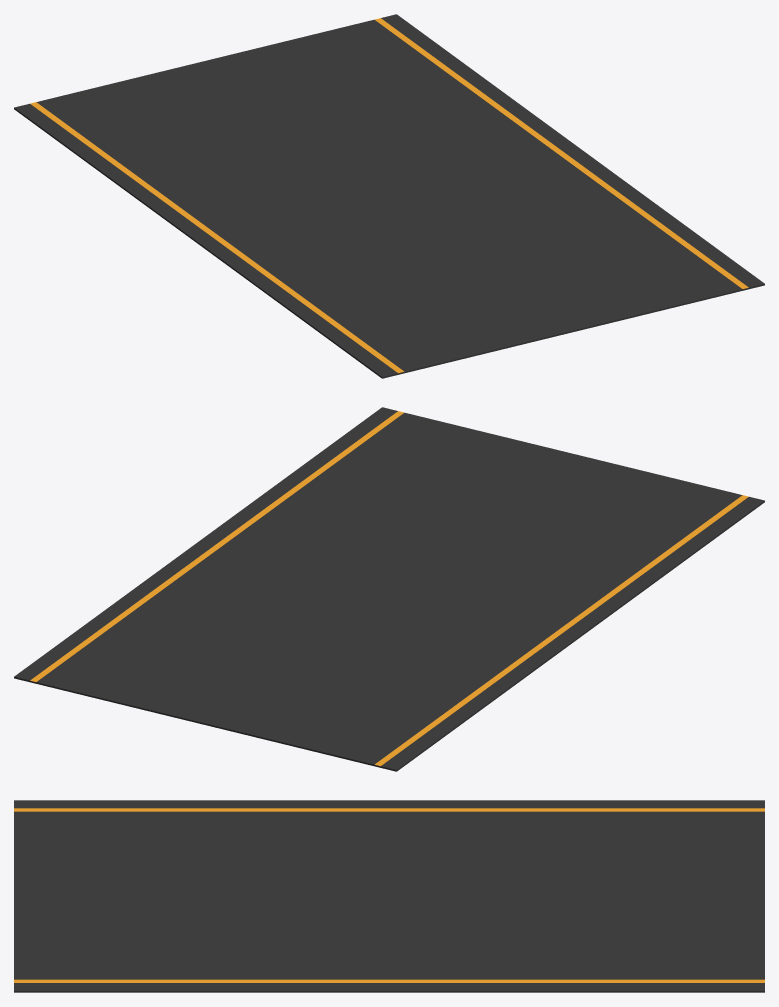
The model's file is SM_Racetrack_Plain_Straight_20x20m.fbx.
3 renders of one model, top to bottom at view 1: azimuth 30°, elevation 25°; view 2: azimuth 150°, elevation 25°; view 3: azimuth 270°, elevation 25°, orthographic.
Visible parts, largest first — view 1: SM_Racetrack_Plain_Straight_20x20m; view 2: SM_Racetrack_Plain_Straight_20x20m; view 3: SM_Racetrack_Plain_Straight_20x20m.
Part boxes in pixels (x1,y1,x2,y2): SM_Racetrack_Plain_Straight_20x20m: (14, 14, 764, 378); SM_Racetrack_Plain_Straight_20x20m: (14, 407, 764, 771); SM_Racetrack_Plain_Straight_20x20m: (14, 800, 764, 992).
Bounding box in the file's own units: 12 × 0.05 × 20.
